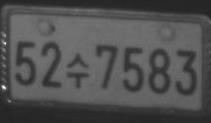2: (41, 40, 62, 89)
3: (175, 48, 197, 97)
5: (122, 46, 144, 92), (14, 40, 36, 85)
7: (95, 43, 118, 89)
8: (148, 47, 171, 94)
수: (65, 52, 90, 90)
